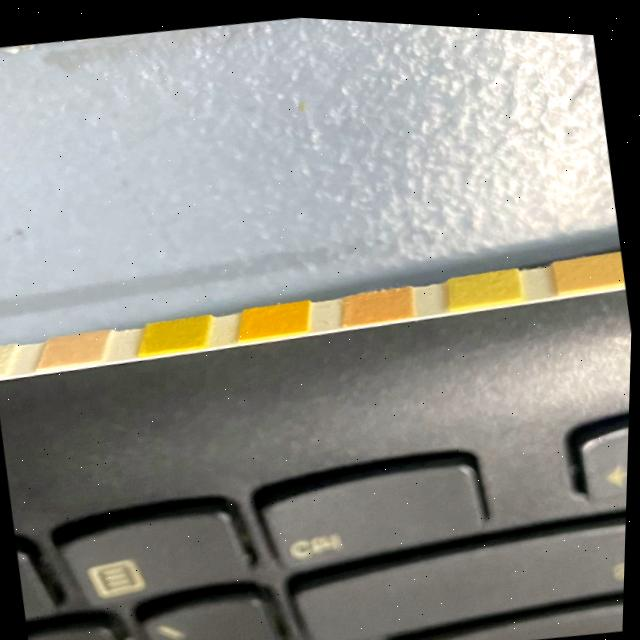Bilirubin: (0, 349, 6, 374)
Blood: (249, 298, 302, 335)
Ketone: (49, 330, 101, 366)
Protein: (459, 264, 518, 298)
SpGravity: (148, 314, 203, 350)
Urobilinogen: (565, 246, 624, 280)
pH: (350, 284, 405, 321)
